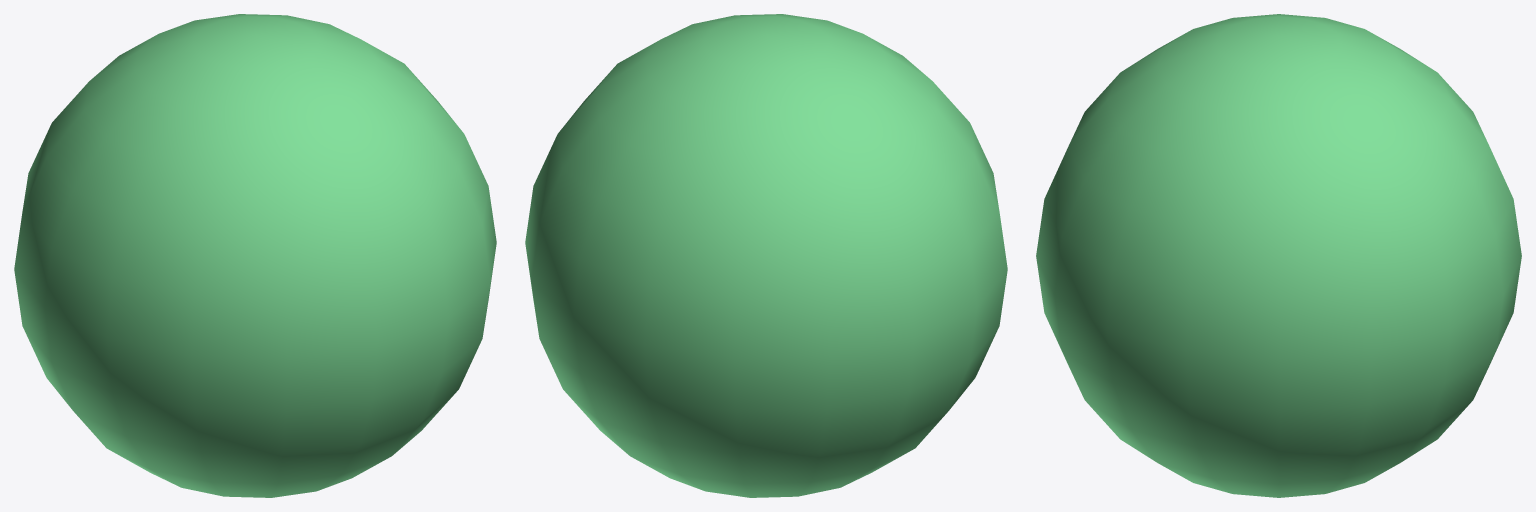
The model's file is watermelon.glb.
3 renders of one model, left to right at view 1: azimuth 30°, elevation 25°; view 2: azimuth 150°, elevation 25°; view 3: azimuth 270°, elevation 25°, orthographic.
Parts seen in each view (by area): view 1: Fruit; view 2: Fruit; view 3: Fruit.
Part boxes in pixels (bbox=[...]): Fruit: bbox=[14, 14, 496, 497]; Fruit: bbox=[525, 14, 1007, 497]; Fruit: bbox=[1036, 14, 1521, 497].
Bounding box in the file's own units: 1 × 1 × 1.
